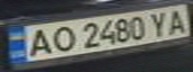0: (127, 14, 151, 40)
2: (78, 19, 103, 49)
4: (97, 17, 118, 46)
8: (115, 16, 133, 44)
A: (21, 26, 57, 57), (163, 7, 193, 35)
O: (45, 24, 78, 54)
Y: (145, 9, 175, 37)
